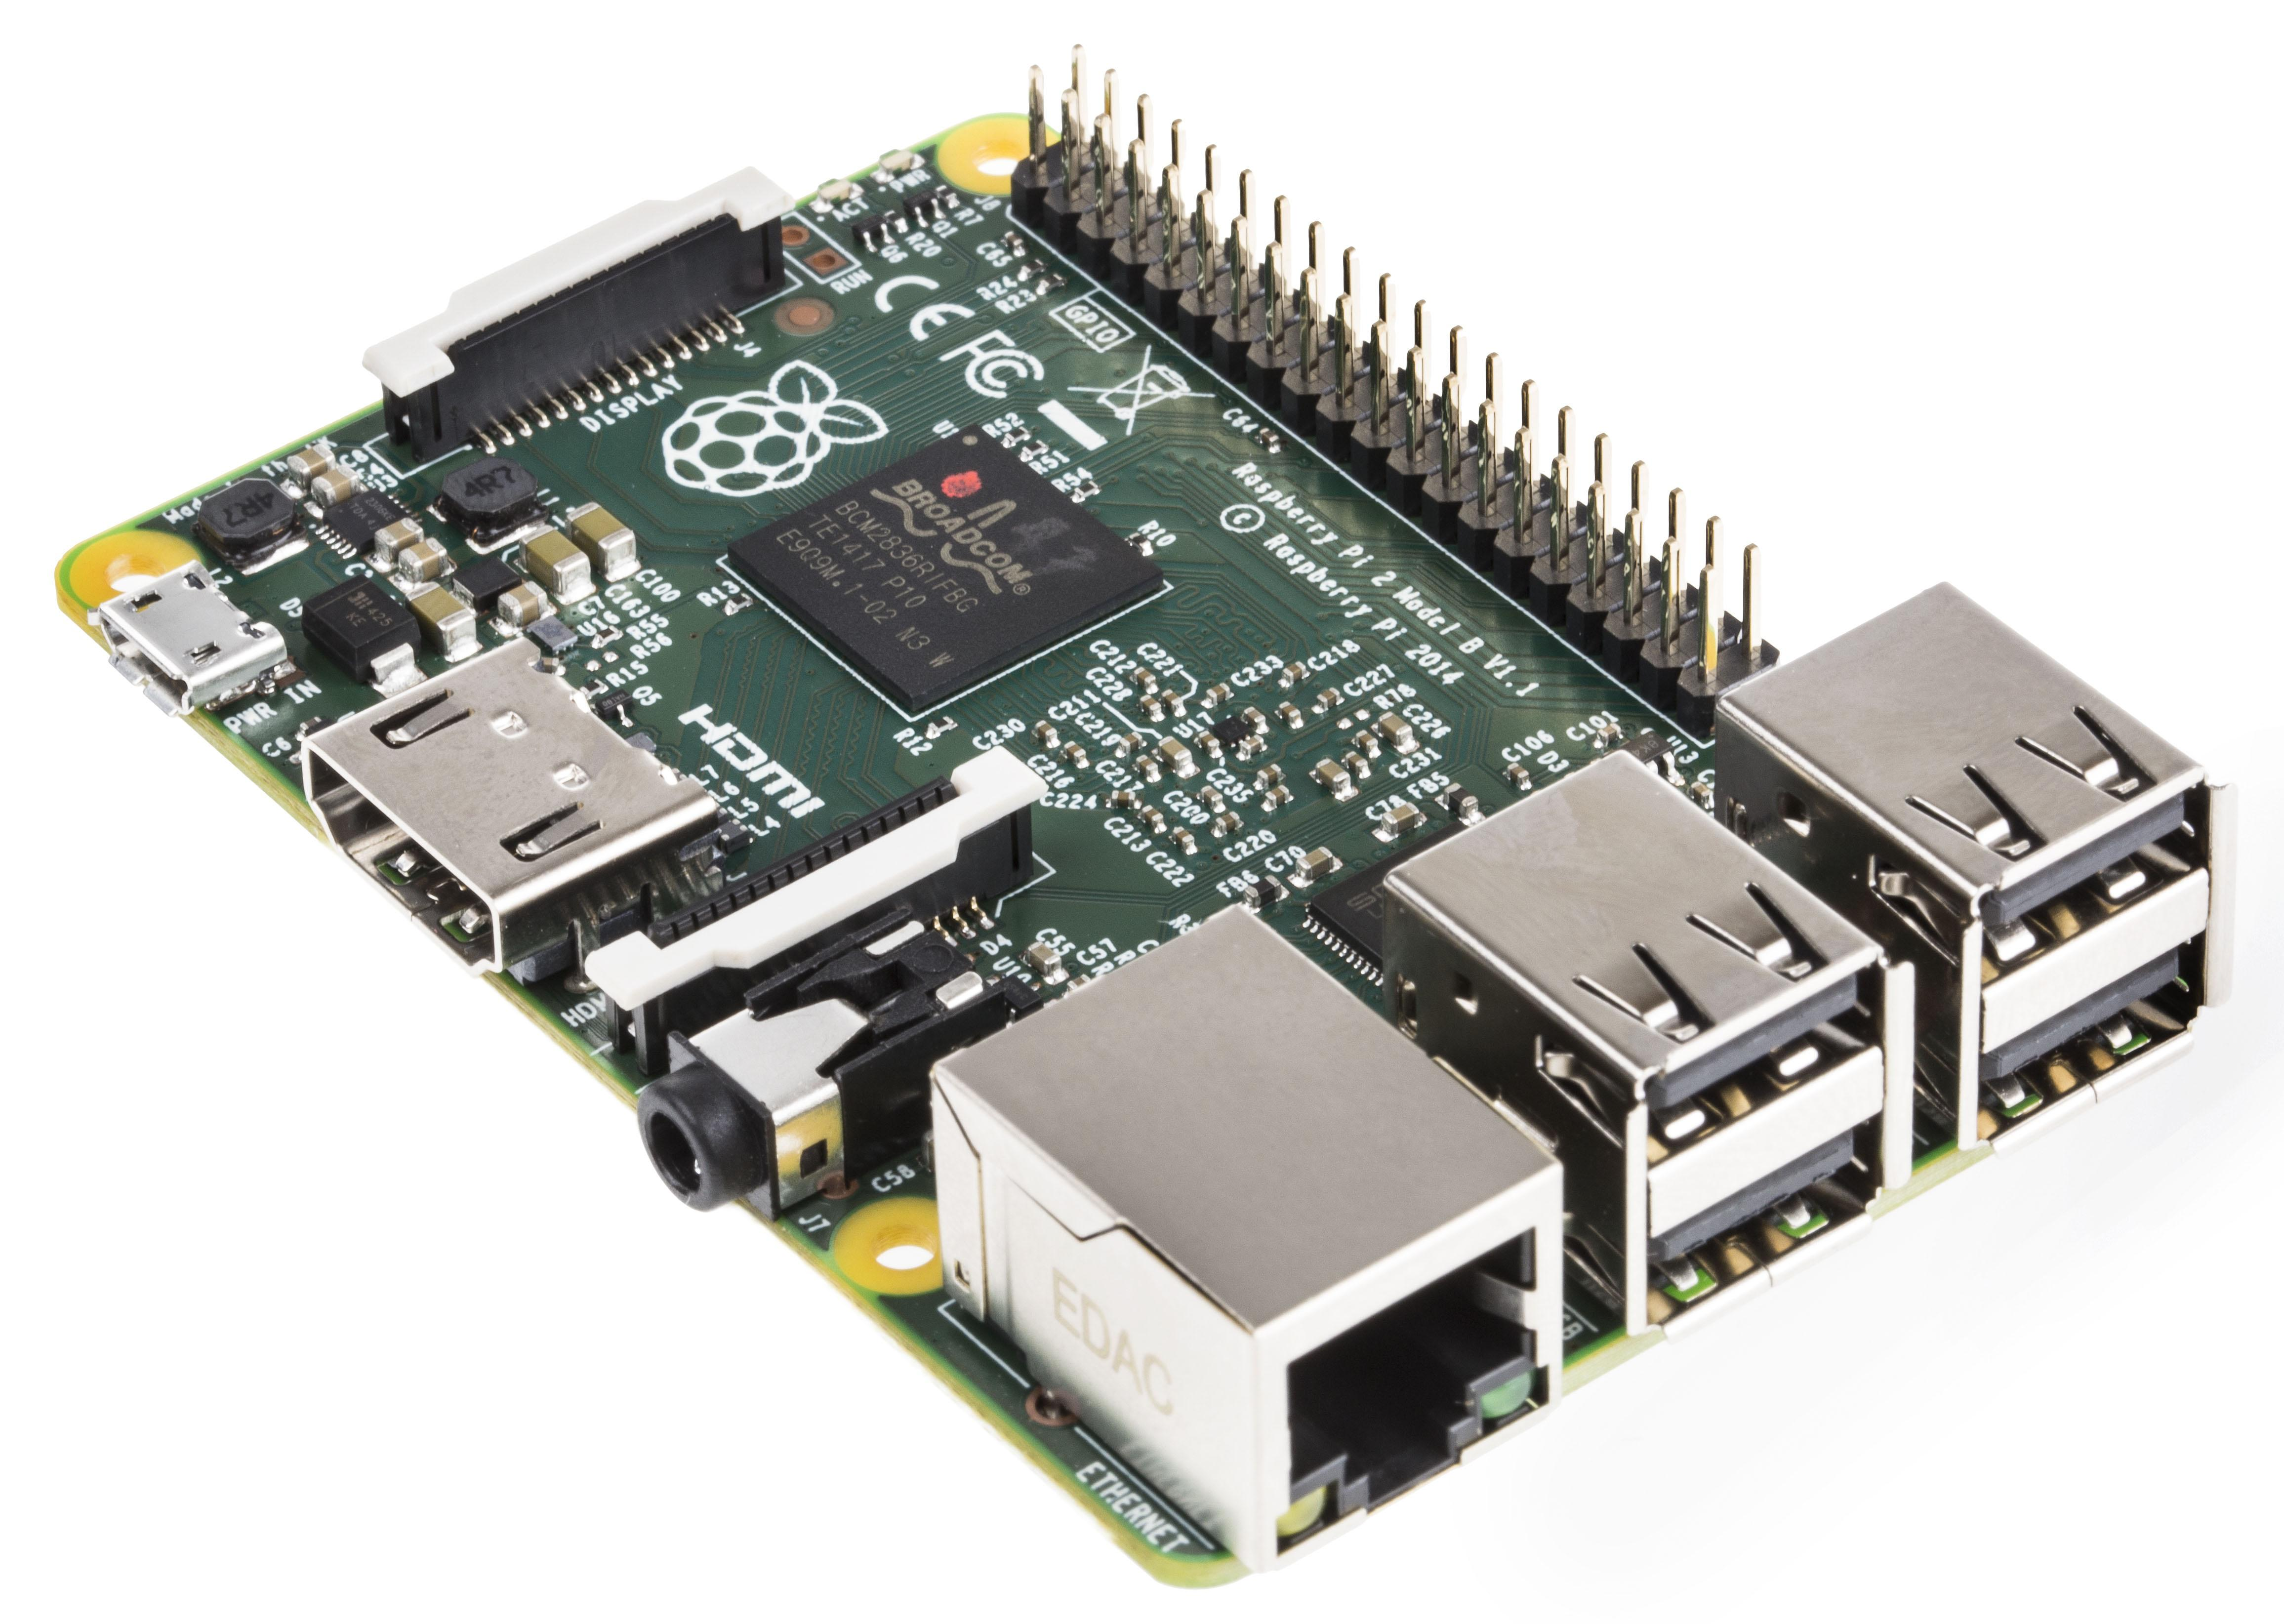audiojack: (608, 919, 1007, 1272)
bchi: (720, 420, 1165, 728)
ethernet: (919, 889, 1571, 1594)
gpio: (984, 69, 1762, 638)
usb: (1372, 742, 1920, 1355), (1709, 573, 2235, 1146)
